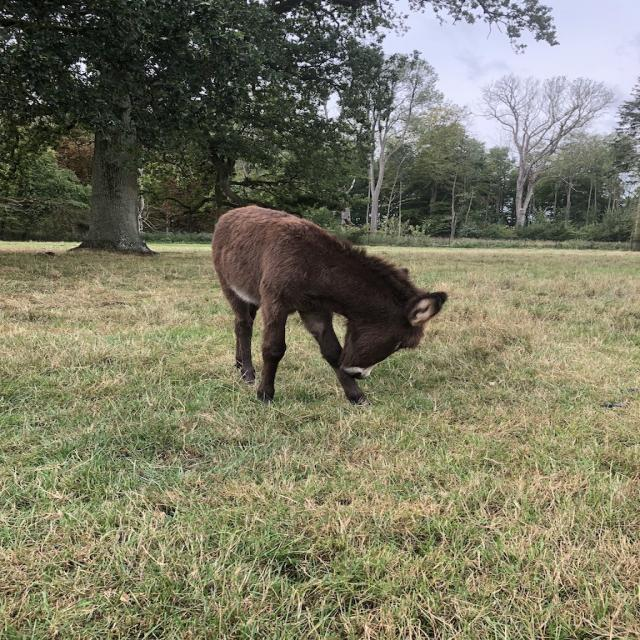Donkey: (210, 204, 450, 408)
